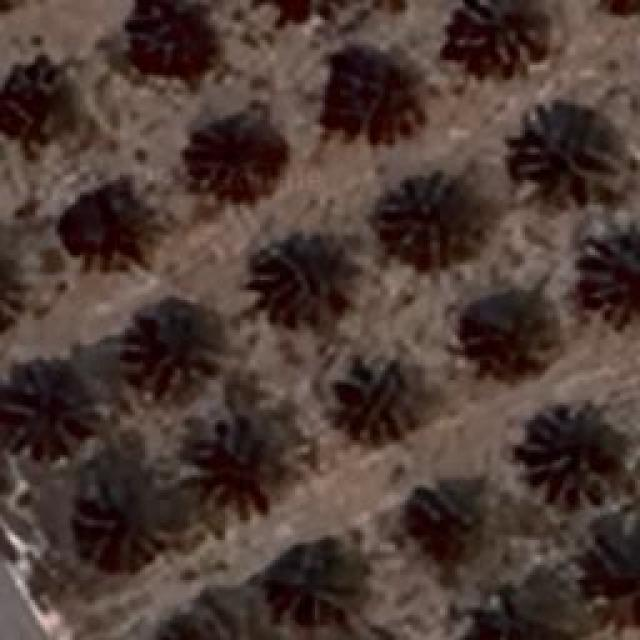PalmTree: (12, 73, 75, 286), (270, 538, 372, 624), (124, 312, 218, 402), (525, 418, 623, 504), (260, 238, 355, 326), (380, 181, 478, 264), (456, 291, 546, 381), (526, 111, 616, 199), (328, 48, 422, 132), (80, 460, 160, 555), (8, 362, 98, 446), (131, 0, 224, 78), (61, 190, 151, 268), (450, 0, 548, 70), (202, 417, 278, 505), (415, 490, 500, 568), (578, 217, 638, 325), (326, 361, 409, 439), (198, 119, 276, 189), (582, 519, 640, 599), (490, 587, 565, 640), (156, 602, 244, 640), (255, 0, 357, 20), (592, 0, 640, 23)
